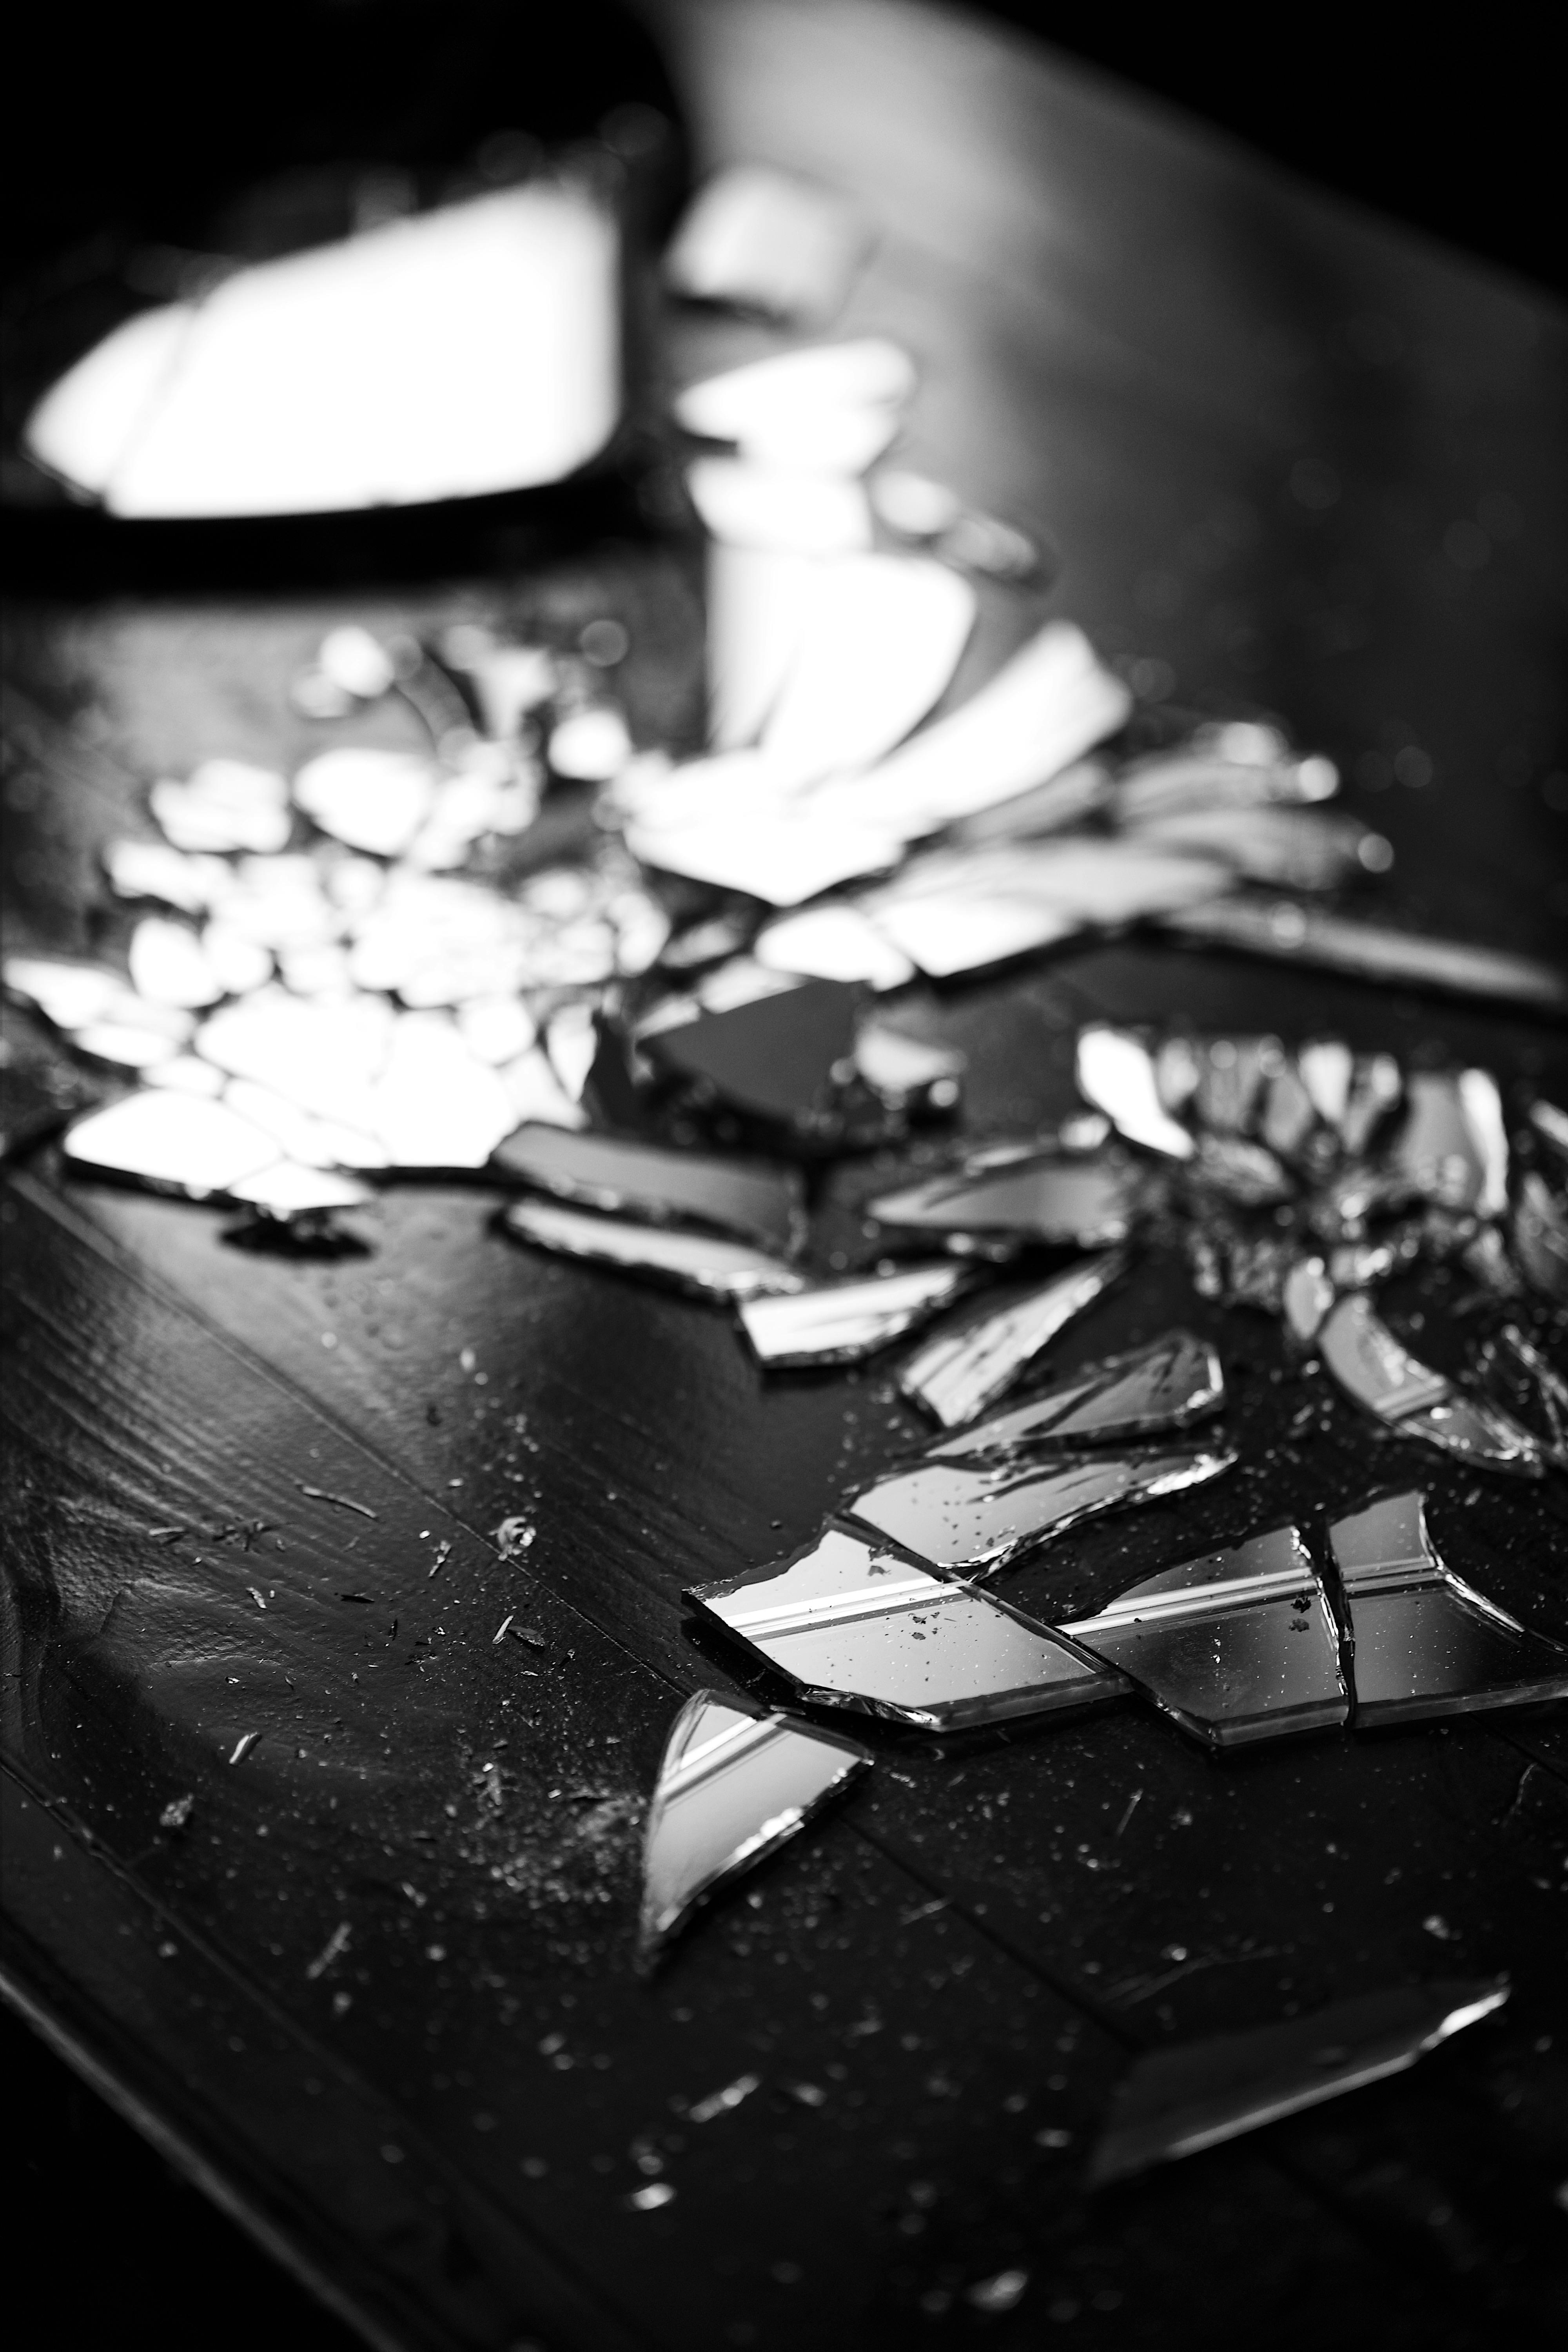glass: (1059, 1966, 1504, 2193), (686, 1522, 1135, 1745), (630, 1693, 872, 1968), (1303, 1489, 1561, 1738), (843, 831, 1241, 986), (630, 971, 940, 1158), (1304, 1267, 1561, 1483), (1162, 888, 1568, 1015), (49, 1079, 389, 1223), (888, 1435, 1235, 1574), (900, 1326, 1229, 1472), (481, 1120, 812, 1256), (868, 1140, 1183, 1260), (671, 341, 926, 475), (783, 1153, 999, 1286), (733, 1257, 977, 1371), (339, 869, 532, 1006), (1129, 795, 1391, 895), (1372, 1064, 1506, 1223), (287, 742, 446, 859), (138, 752, 300, 862), (746, 904, 927, 995), (1070, 1022, 1189, 1156), (1, 952, 169, 1045), (1313, 1485, 1441, 1592), (100, 832, 245, 919), (494, 1029, 585, 1132), (678, 949, 809, 1020), (1279, 1247, 1337, 1349)
